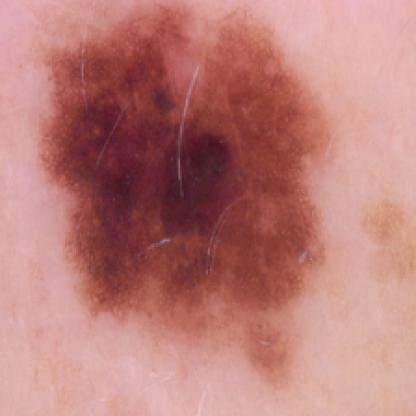benign: (45, 15, 334, 351)
